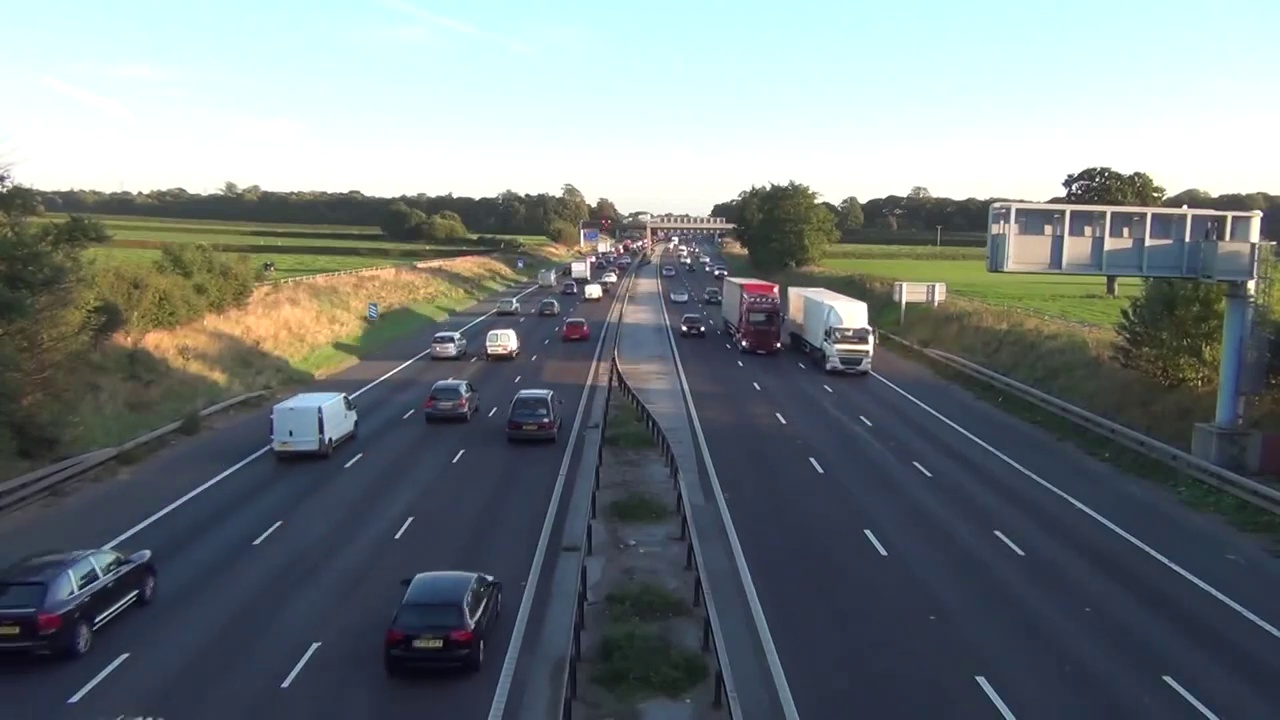bus: (0, 549, 158, 659), (384, 572, 502, 676), (505, 388, 565, 441), (425, 380, 481, 420), (430, 332, 466, 358), (560, 317, 590, 341), (680, 314, 705, 337), (496, 299, 521, 315), (703, 287, 722, 304), (540, 299, 560, 315), (670, 288, 688, 302), (561, 282, 577, 295), (662, 265, 676, 277)
car: (786, 286, 879, 375), (722, 277, 781, 355), (570, 261, 590, 282)
lorry: (270, 393, 359, 459), (485, 329, 521, 359), (584, 284, 604, 301), (714, 266, 728, 278)
